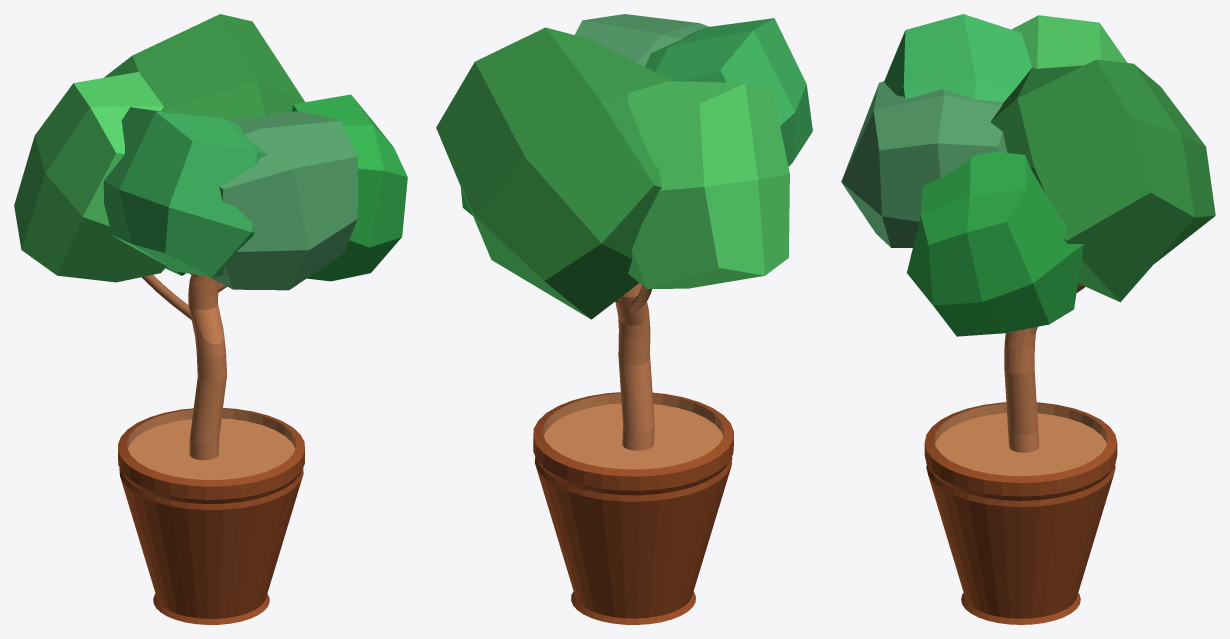
File: plant 1.fbx
3 views of the same model, side by side, from view 1: azimuth 30°, elevation 25°; view 2: azimuth 150°, elevation 25°; view 3: azimuth 270°, elevation 25° (orthographic). The views are drawn at different scales.
Visible parts, largest first — view 1: Cylinder.005, Cube.002, Cube.003, Cube, Cube.005, Cube.004, Cylinder, Cylinder.001; view 2: Cube.005, Cylinder.005, Cube.003, Cube.002, Cylinder, Cube; view 3: Cube.005, Cylinder.005, Cube.004, Cube, Cube.002, Cube.003, Cylinder.
Part boxes in pixels (x1,y1,x2,y2): Cylinder.005: [118, 408, 304, 624]; Cube.002: [103, 107, 266, 276]; Cube.003: [14, 72, 166, 282]; Cube: [207, 111, 357, 290]; Cube.005: [104, 14, 304, 275]; Cube.004: [292, 94, 407, 281]; Cylinder: [188, 275, 226, 460]; Cylinder.001: [141, 275, 191, 319]; Cube.005: [436, 27, 673, 319]; Cylinder.005: [533, 392, 733, 624]; Cube.003: [627, 81, 789, 288]; Cube.002: [645, 18, 812, 166]; Cylinder: [615, 283, 654, 450]; Cube: [575, 14, 709, 66]; Cube.005: [990, 59, 1215, 302]; Cylinder.005: [924, 402, 1117, 624]; Cube.004: [907, 151, 1083, 336]; Cube: [841, 81, 1007, 247]; Cube.002: [884, 14, 1031, 102]; Cube.003: [1011, 15, 1127, 68]; Cylinder: [1004, 326, 1039, 452].
Size of the model in its own units: 207 by 341 by 206.
